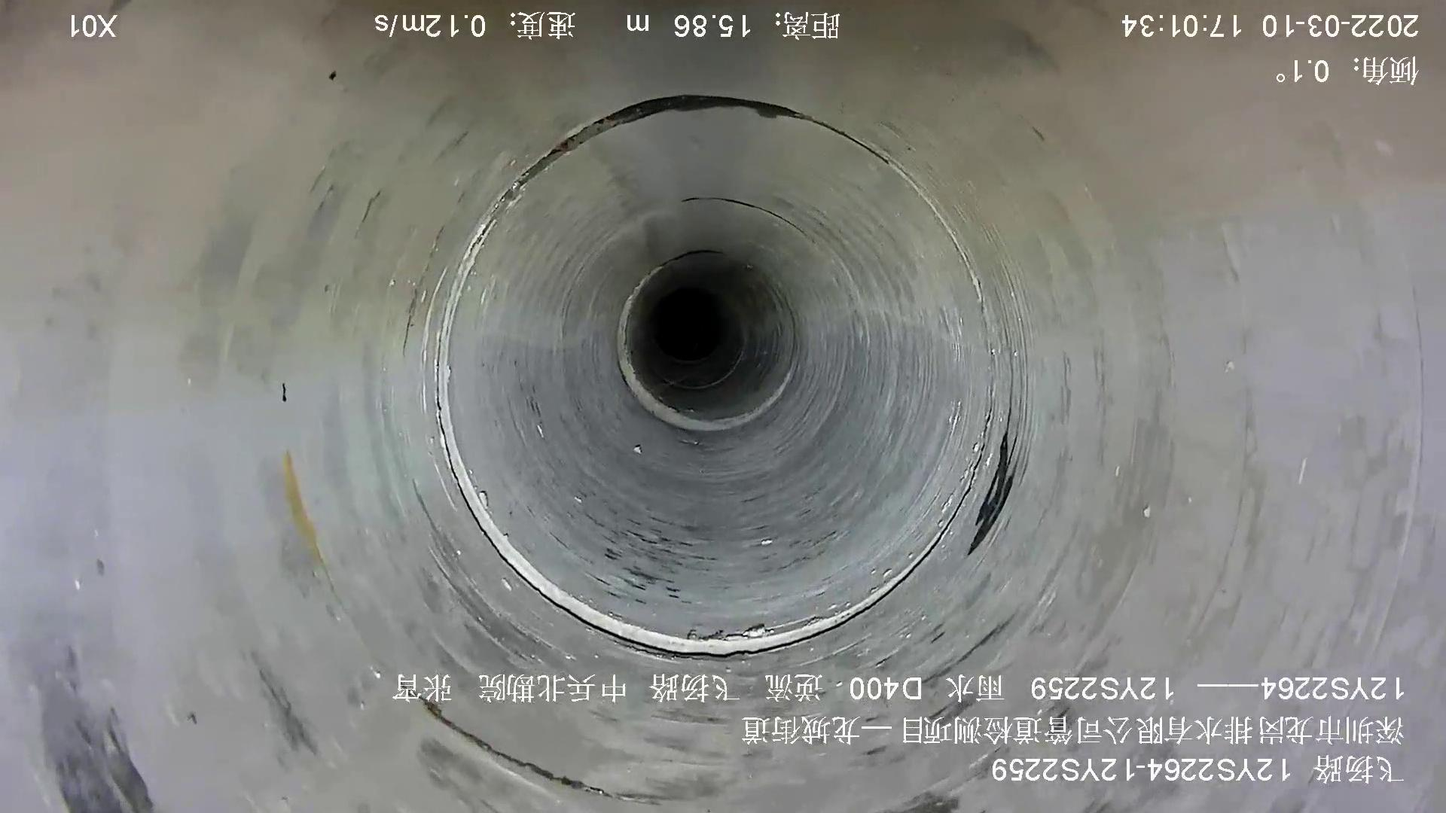CKTJ: (432, 94, 992, 659), (618, 263, 790, 431), (659, 347, 746, 391)
